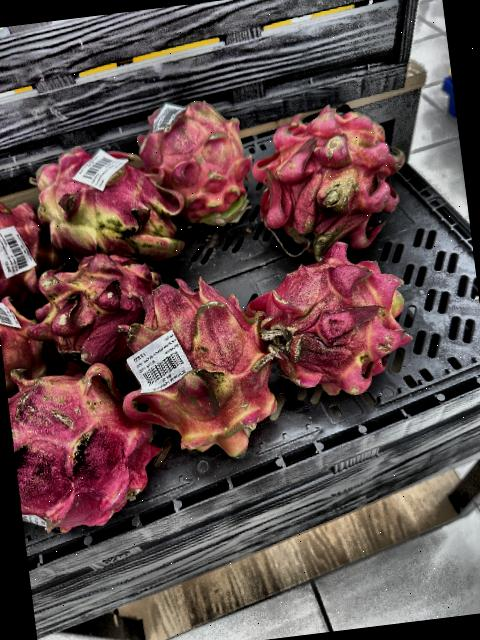buah-naga-belum-matang: (108, 268, 286, 468), (28, 140, 190, 270), (129, 87, 258, 236), (27, 249, 164, 368), (0, 293, 61, 385)
buah-naga-matang: (242, 92, 412, 274), (5, 356, 169, 534), (250, 248, 422, 392), (0, 182, 66, 293)
